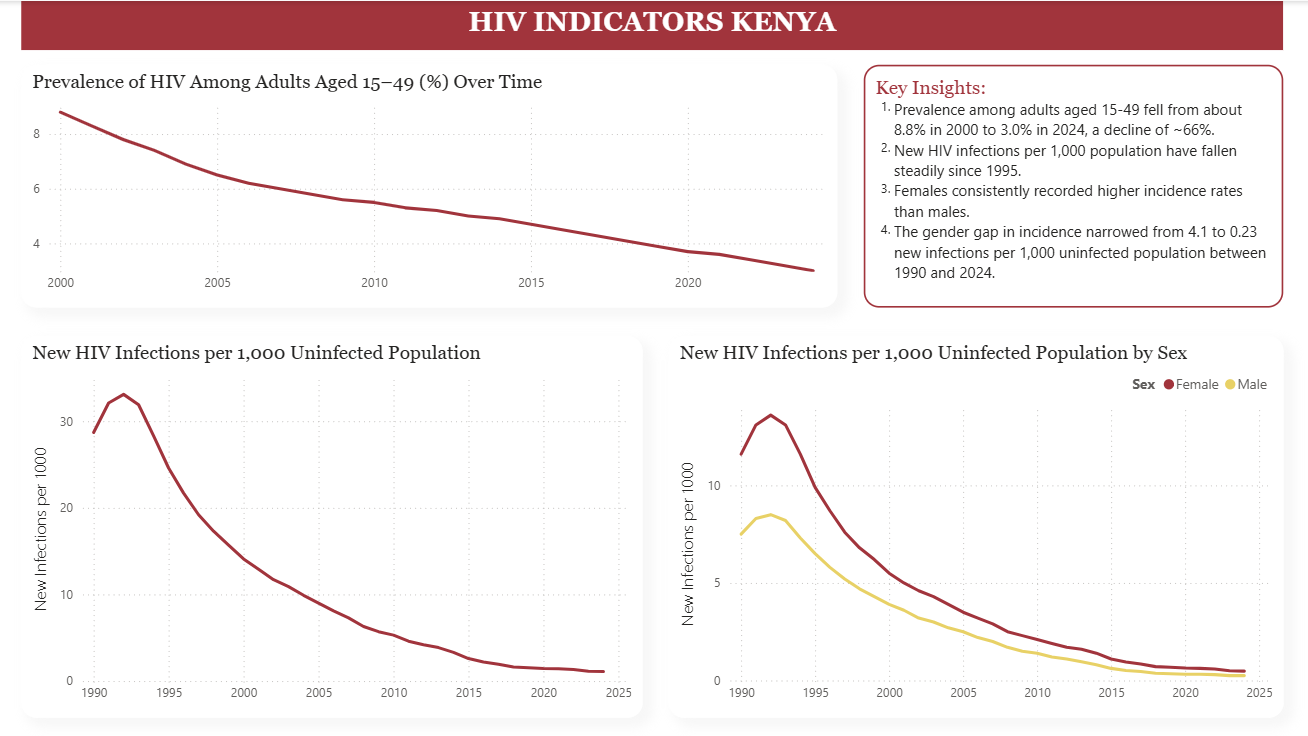

The dashboard page shown, as its layout file describes it:
{"tool":"powerbi","page":{"name":"Prevelance and Incidence","canvas":[1280,720],"ordinal":1},"visuals":[{"type":"textbox","title":"Title","box":[21.3,0,1234.7,48],"z":0},{"type":"lineChart","title":"New HIV Infections per 1,000 Uninfected Population","fields":{"Y":["hiv_data_kenya.Total Incidence Per 1000 Population"],"Category":["Date.Year"]},"box":[21.3,328,608,373.3],"z":1000},{"type":"textbox","title":"Key Insights","box":[845.3,62.7,410.7,237.3],"z":2000},{"type":"lineChart","title":"New HIV Infections per 1,000 Uninfected Population by Sex","fields":{"Category":["Date.Year"],"Series":["hiv_data_kenya.Sex"],"Y":["hiv_data_kenya.Total Incidence Per 1000 Population"]},"box":[654.7,328,601.3,373.3],"z":3000},{"type":"lineChart","title":"Prevalence of HIV Among Adults Aged 15–49 (%) Over Time","fields":{"Category":["Date.Year"],"Y":["hiv_data_kenya.Prevalence among YA"]},"box":[21.3,62.7,798.7,237.3],"z":4000}]}

Visuals, with their boxes in screenshot pixels (x1, y1, x2, y2), scaled from the page's 1280x720 canvas onto the 1308x736 screenshot:
"Title" textbox: <bbox>22, 0, 1283, 49</bbox>
"New HIV Infections per 1,000 Uninfected Population" lineChart: <bbox>22, 335, 643, 717</bbox>
"Key Insights" textbox: <bbox>864, 64, 1283, 307</bbox>
"New HIV Infections per 1,000 Uninfected Population by Sex" lineChart: <bbox>669, 335, 1283, 717</bbox>
"Prevalence of HIV Among Adults Aged 15–49 (%) Over Time" lineChart: <bbox>22, 64, 838, 307</bbox>
